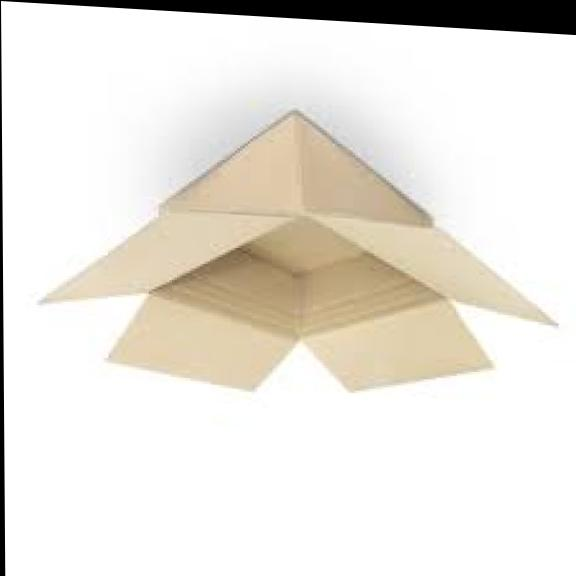Kertas: (43, 115, 553, 391)
